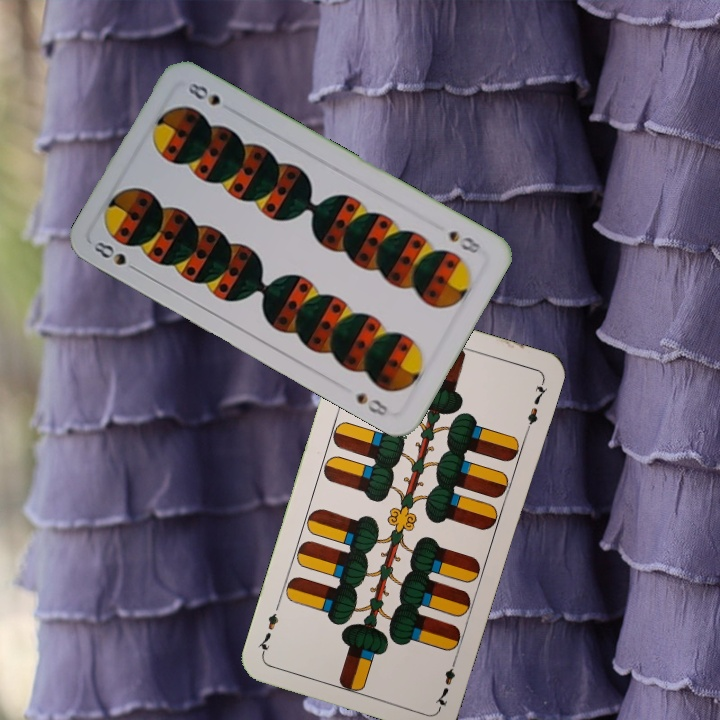E7: (432, 653, 460, 711)
S8: (89, 237, 143, 276), (444, 226, 485, 256)
